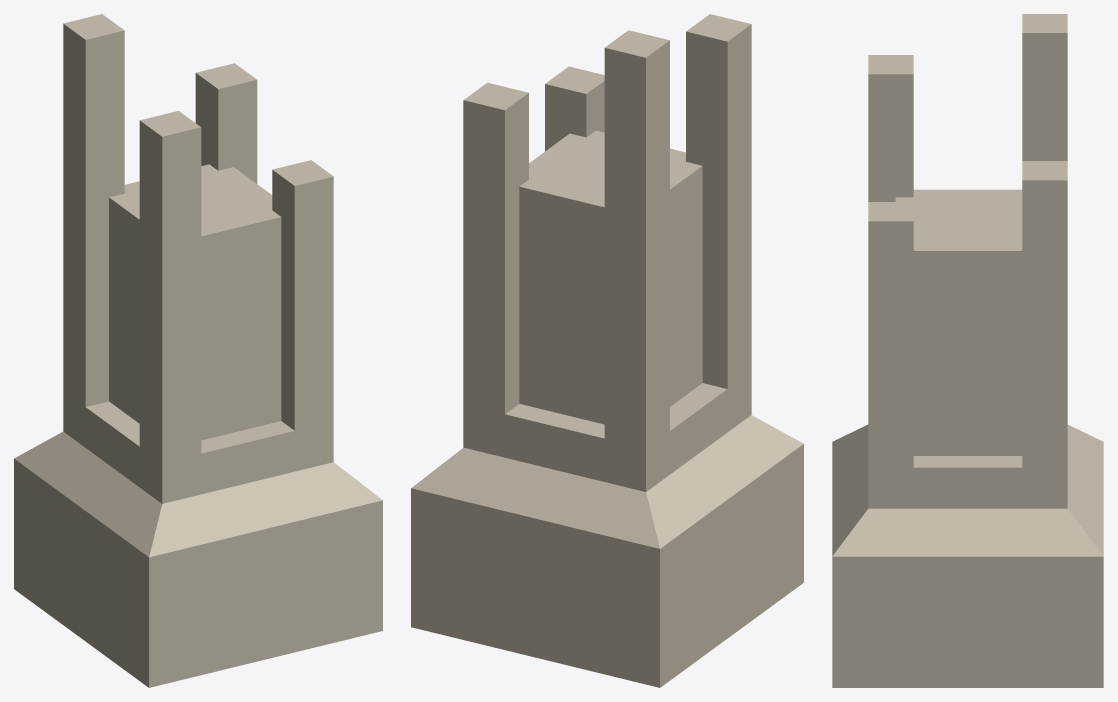
Rendered from column.glb.
3 views of the same model, side by side, from view 1: azimuth 30°, elevation 25°; view 2: azimuth 150°, elevation 25°; view 3: azimuth 270°, elevation 25° (orthographic). The views are drawn at different scales.
Visible parts, largest first — view 1: column; view 2: column; view 3: column.
Boxes of the visible parts, box(x1,y1,x2,y2) form: column: box(14, 14, 382, 687); column: box(411, 14, 803, 687); column: box(832, 14, 1103, 687).
Bounding box in the file's own units: 1.71 × 4 × 1.71.
